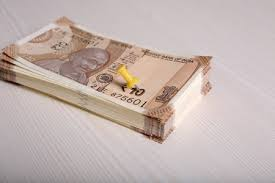ten: (42, 33, 161, 100)
